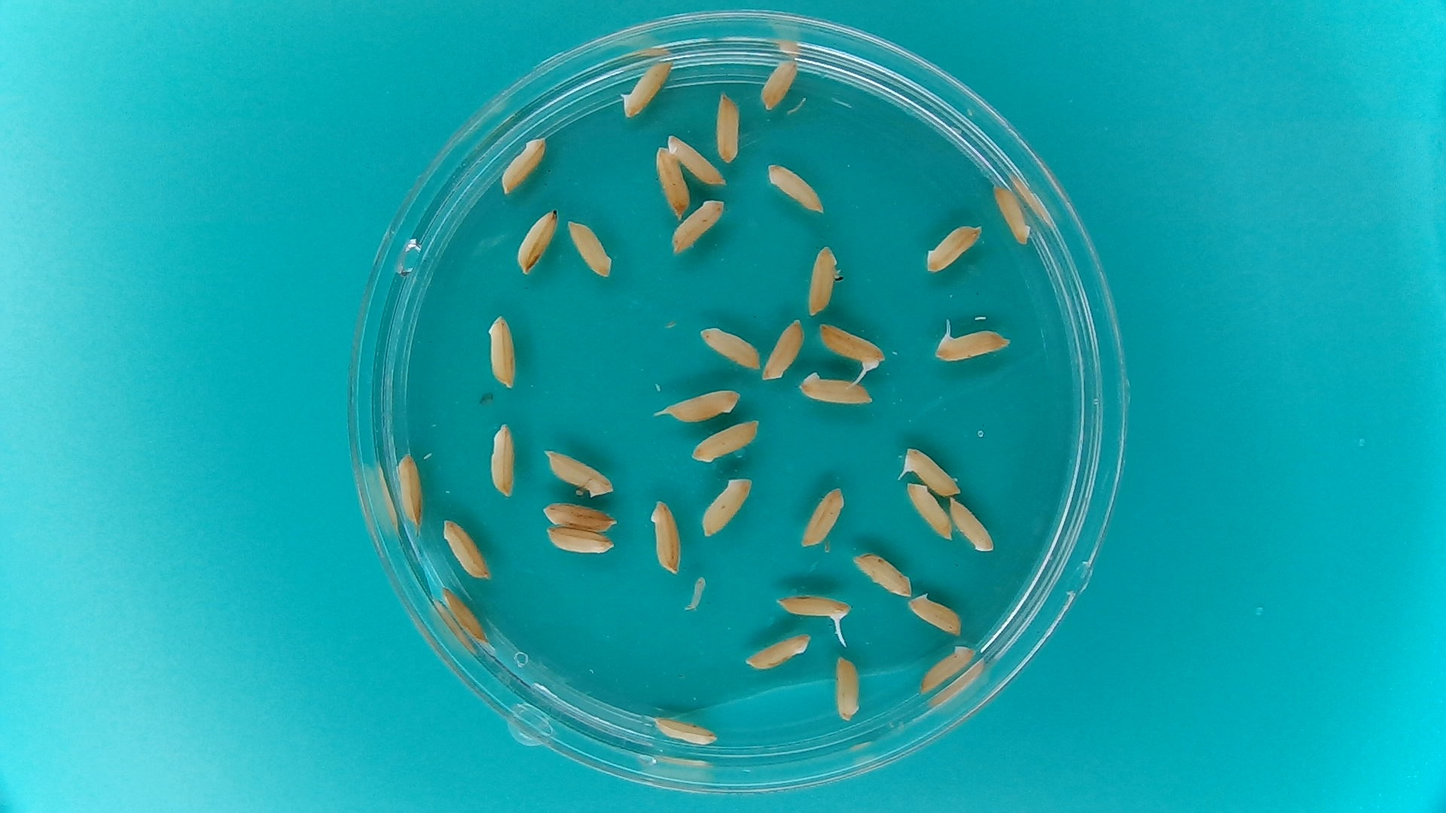no: (541, 446, 615, 498), (916, 643, 978, 699), (691, 416, 760, 466), (699, 477, 754, 538), (665, 132, 728, 185), (797, 484, 847, 550), (622, 59, 676, 119), (441, 517, 491, 581), (669, 199, 726, 254), (767, 162, 825, 216), (516, 208, 560, 279), (924, 223, 984, 275), (905, 481, 953, 544), (439, 586, 490, 645), (758, 318, 805, 382), (500, 135, 550, 195), (699, 325, 761, 373), (652, 389, 742, 422), (850, 552, 913, 599), (566, 218, 612, 280), (806, 244, 844, 318), (655, 145, 691, 223), (948, 495, 996, 553), (744, 632, 813, 672), (799, 370, 874, 405), (540, 501, 618, 534), (992, 181, 1032, 245), (907, 594, 964, 638), (649, 500, 682, 575), (395, 453, 423, 538), (758, 59, 801, 112), (651, 714, 718, 748), (487, 315, 517, 390), (545, 525, 617, 556), (490, 424, 517, 498), (715, 91, 740, 165), (834, 655, 861, 721)
yes: (817, 322, 886, 370), (905, 449, 962, 504), (932, 327, 1004, 361), (774, 594, 853, 623)
